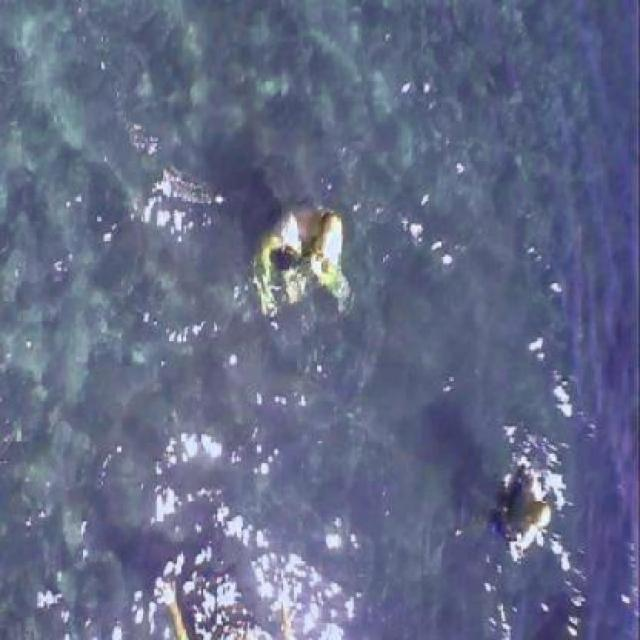drowning: (236, 182, 362, 326), (474, 451, 560, 582)
